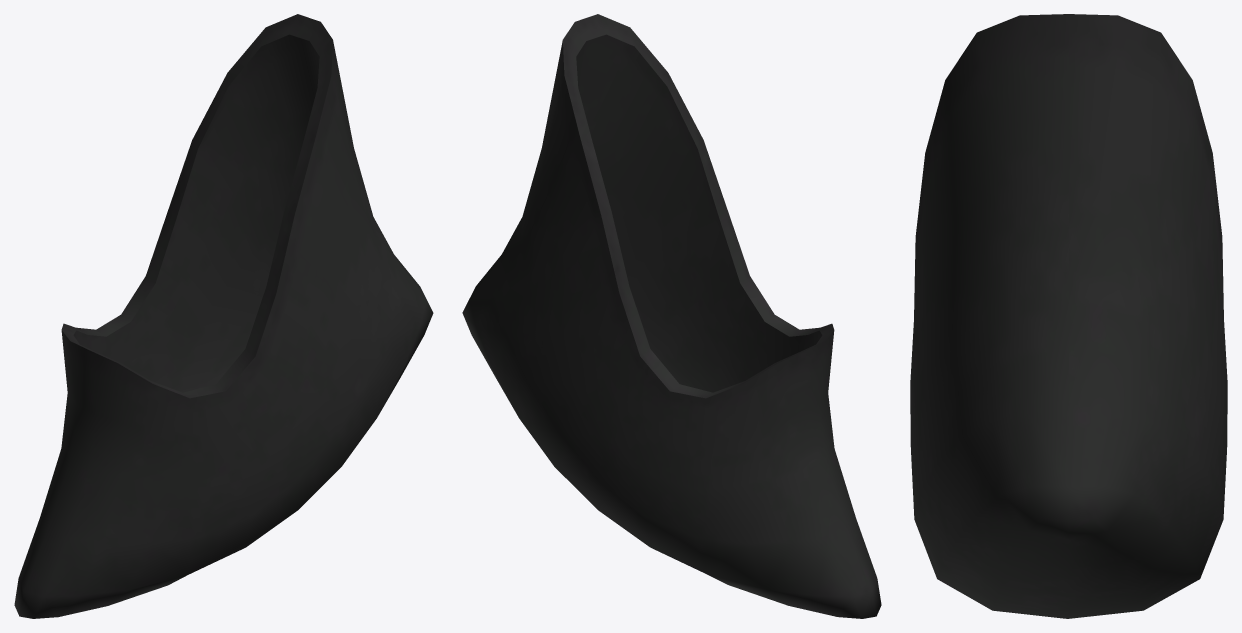
The model's file is wm_rivendell_sword_a02_black_pommel.fbx.
3 renders of one model, left to right at view 1: azimuth 30°, elevation 25°; view 2: azimuth 150°, elevation 25°; view 3: azimuth 270°, elevation 25°, orthographic. The views are drawn at different scales.
Parts seen in each view (by area): view 1: wm_rivendell_sword_a02_black_pommel; view 2: wm_rivendell_sword_a02_black_pommel; view 3: wm_rivendell_sword_a02_black_pommel.
Boxes of the visible parts, <box> form: wm_rivendell_sword_a02_black_pommel: <box>14,14,433,618</box>; wm_rivendell_sword_a02_black_pommel: <box>462,14,881,618</box>; wm_rivendell_sword_a02_black_pommel: <box>910,14,1227,618</box>.
Size of the model in its own units: 0.0529 by 0.0253 by 0.0647.
1 material, 1 textured.
